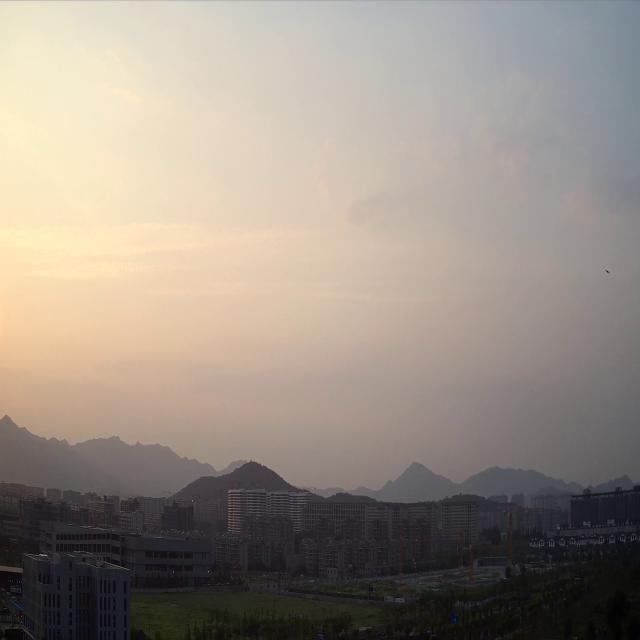drone: (606, 268, 612, 274)
